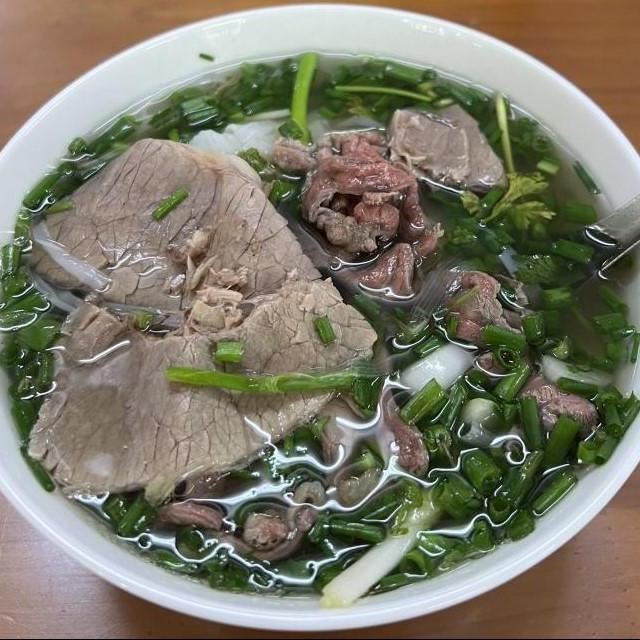banh pho: (183, 96, 398, 178)
pho bo: (0, 47, 640, 639)
thit bo: (15, 272, 382, 514), (13, 130, 326, 342), (264, 128, 450, 304), (293, 332, 434, 516), (150, 471, 333, 566), (469, 346, 602, 456), (381, 99, 517, 202), (416, 260, 537, 362)
